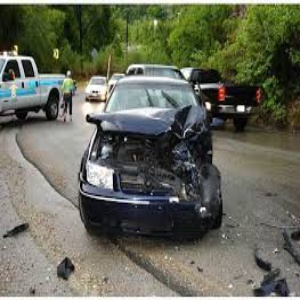bonnet: (82, 104, 208, 141)
